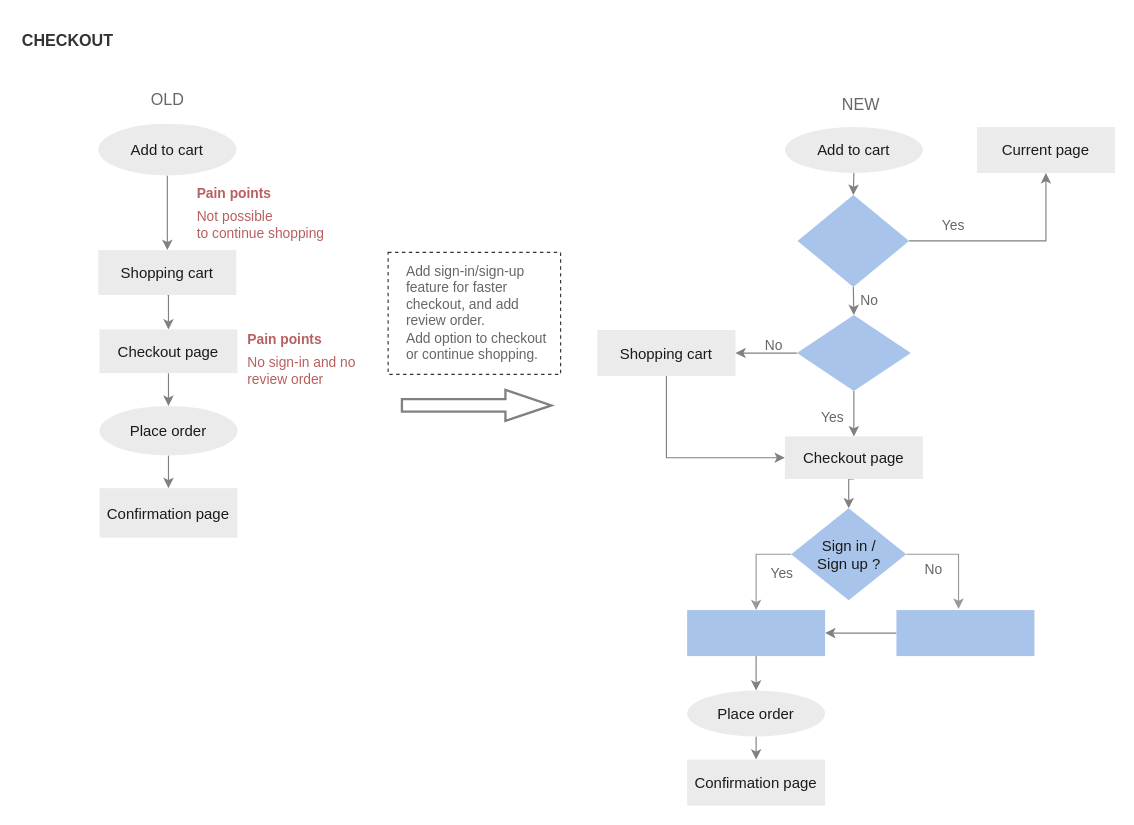
The diagram is 1134 pixels wide and 825 high, and some of its shapes have lost their labels. The shapes that lost their labels are listed below. From the top down, each one's centre as x and y in pixels, then its label:
At pixel 852 240: "Continue shopping?".
At pixel 853 352: "Checkout?".
At pixel 756 633: "Review order".
At pixel 965 633: "Guest check-out".
